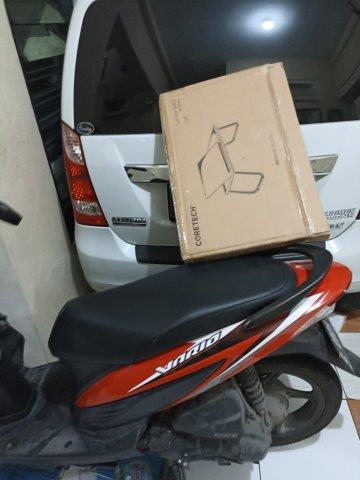kardus: (159, 64, 330, 260)
